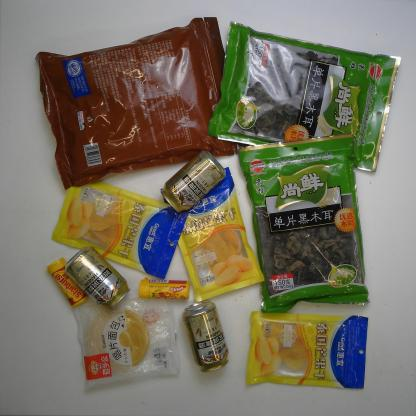Alcohol: (158, 148, 228, 216), (62, 244, 132, 312), (181, 298, 230, 373)
Candy: (45, 257, 89, 309), (137, 275, 191, 301)
Dessert: (71, 291, 181, 394)
Dried Food: (31, 15, 241, 195), (206, 16, 406, 175), (235, 130, 373, 316)
Dried Fruit: (49, 176, 192, 281), (174, 159, 266, 308), (245, 310, 369, 390)
